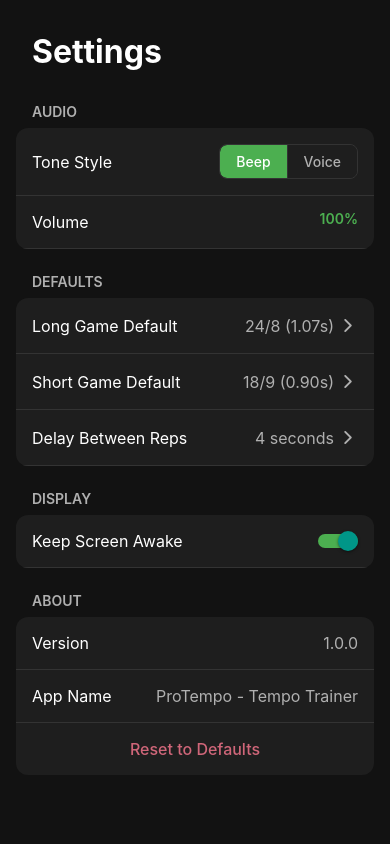
Test: SettingsScreen › defaults section › opens short game preset picker when tapped
Second pressable is Short Game Default
Click the button with test id "settings-row-pressable" that starts with "Short Game Default" at (106, 382), box [16,354,374,410]
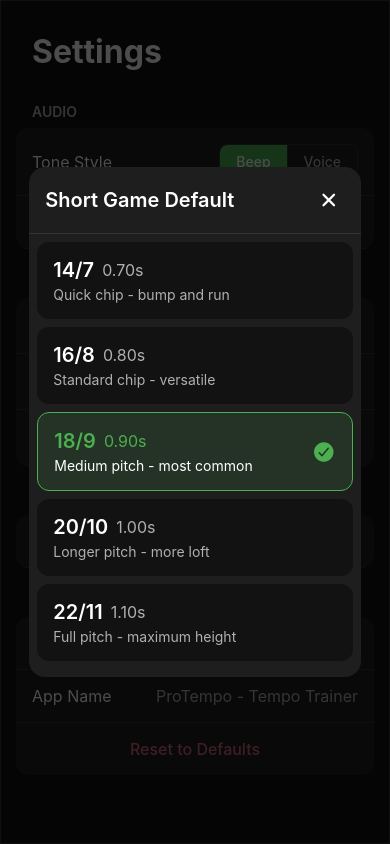
Result: the element with test id "preset-picker" is shown at [29,167,361,677]
